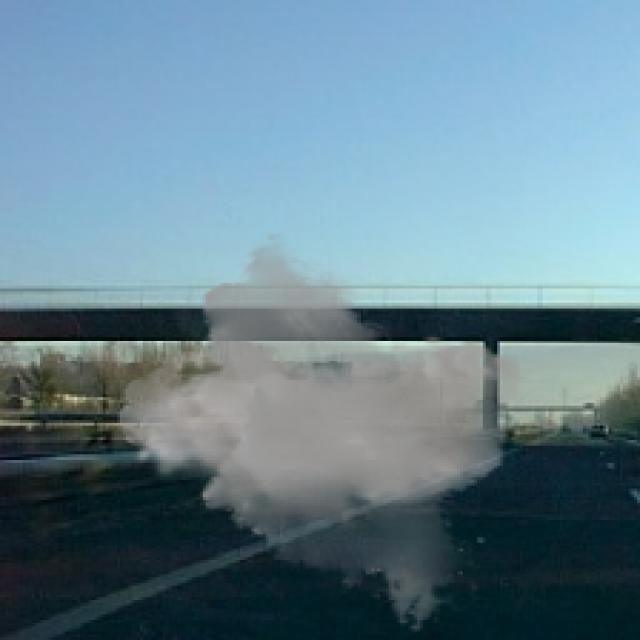Smoke: (117, 232, 526, 634)
